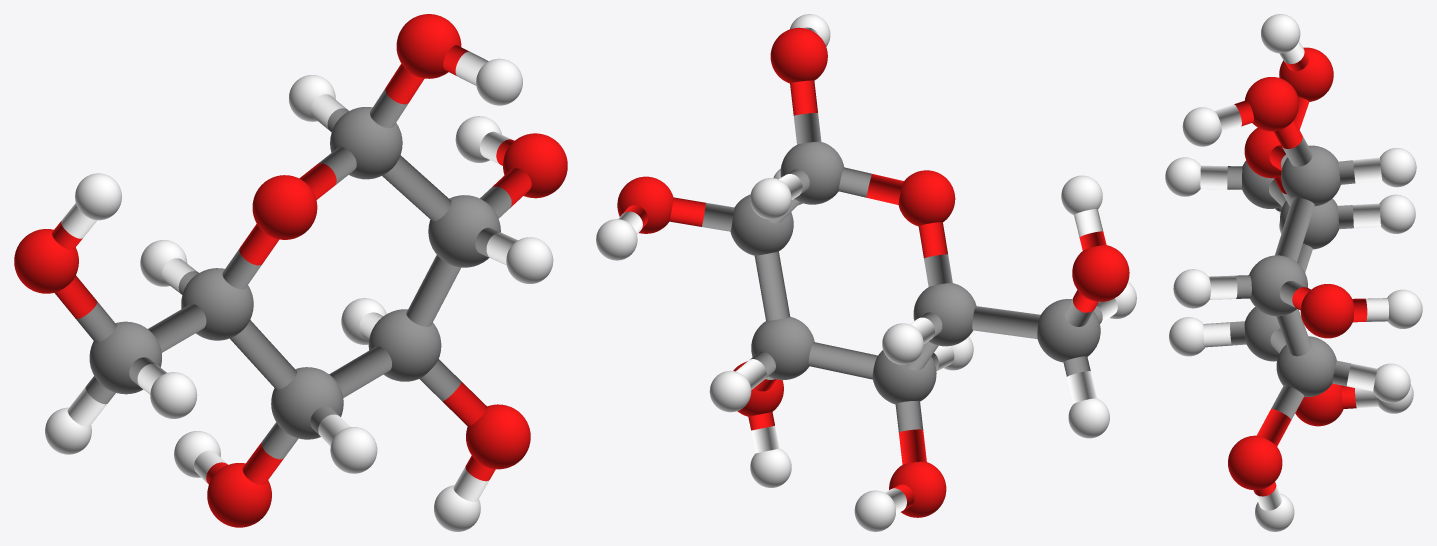
The model's file is Alcohol-1.obj.
3 renders of one model, left to right at view 1: azimuth 30°, elevation 25°; view 2: azimuth 150°, elevation 25°; view 3: azimuth 270°, elevation 25°, orthographic. The views are drawn at different scales.
Visible parts, largest first — view 1: C8_Atom, C11_Atom, C10_Atom, C9_Atom, C7_Atom, O1_Atom, C12_Atom, O3_Atom, O6_Atom, O5_Atom, O2_Atom, O4_Atom (+35 smaller); view 2: C8_Atom, C12_Atom, C9_Atom, C11_Atom, O6_Atom, O5_Atom, O1_Atom, C10_Atom, C7_Atom, O2_Atom, O4_Atom, Cylinder15 (+22 smaller); view 3: C11_Atom, C8_Atom, O3_Atom, O4_Atom, C10_Atom, O5_Atom, O6_Atom, Cylinder9, C9_Atom, O2_Atom, C7_Atom, O1_Atom (+38 smaller).
Boxes of the visible parts, x1,y1,x2,y2 form: C8_Atom: [368, 309, 441, 381]; C11_Atom: [330, 107, 402, 179]; C10_Atom: [428, 195, 500, 267]; C9_Atom: [181, 268, 253, 340]; C7_Atom: [271, 367, 343, 439]; O1_Atom: [252, 175, 317, 239]; C12_Atom: [89, 321, 161, 394]; O3_Atom: [466, 404, 530, 469]; O6_Atom: [14, 229, 78, 293]; O5_Atom: [396, 14, 461, 78]; O2_Atom: [207, 463, 271, 527]; O4_Atom: [503, 133, 567, 198]; C8_Atom: [751, 317, 814, 380]; C12_Atom: [1037, 299, 1100, 362]; C9_Atom: [913, 283, 976, 346]; C11_Atom: [780, 141, 843, 204]; O6_Atom: [1072, 245, 1129, 301]; O5_Atom: [770, 27, 827, 83]; O1_Atom: [898, 170, 955, 226]; C10_Atom: [730, 194, 793, 255]; C7_Atom: [872, 350, 936, 404]; O2_Atom: [889, 461, 946, 517]; O4_Atom: [617, 176, 673, 233]; Cylinder15: [754, 251, 790, 320]; C11_Atom: [1281, 145, 1340, 206]; C8_Atom: [1276, 336, 1336, 396]; O3_Atom: [1228, 435, 1282, 490]; O4_Atom: [1300, 284, 1353, 338]; C10_Atom: [1249, 255, 1307, 316]; O5_Atom: [1245, 77, 1298, 131]; O6_Atom: [1279, 47, 1333, 101]; Cylinder9: [1275, 197, 1314, 261]; C9_Atom: [1280, 198, 1338, 249]; O2_Atom: [1295, 383, 1343, 426]; C7_Atom: [1244, 307, 1280, 361]; O1_Atom: [1244, 127, 1281, 178].
Bounding box in the file's own units: 6.93 × 6.19 × 3.3.
